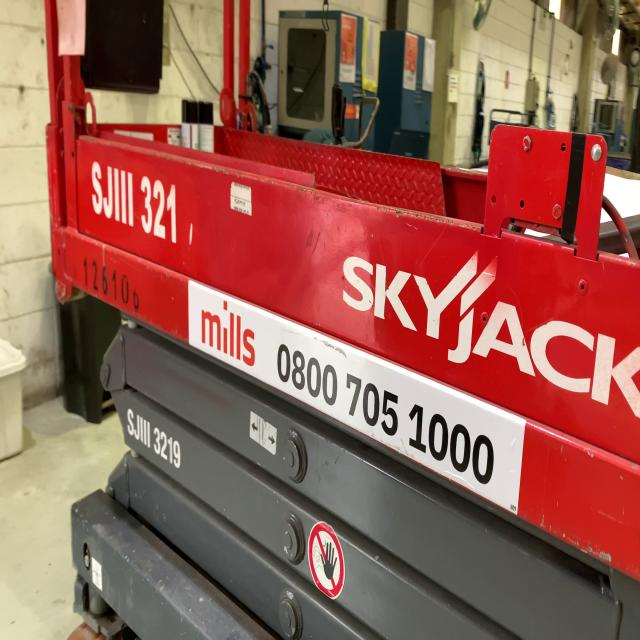Adesivo Longo: (184, 274, 533, 525)
